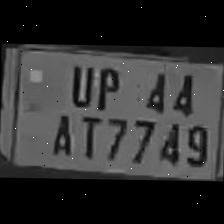4: (168, 68, 196, 116), (138, 66, 167, 110), (154, 116, 180, 164)
7: (124, 112, 153, 162), (102, 112, 128, 160)
9: (182, 119, 208, 166)
A: (45, 108, 74, 156)
P: (90, 61, 123, 109)
T: (74, 110, 102, 158)
U: (64, 60, 95, 106)
